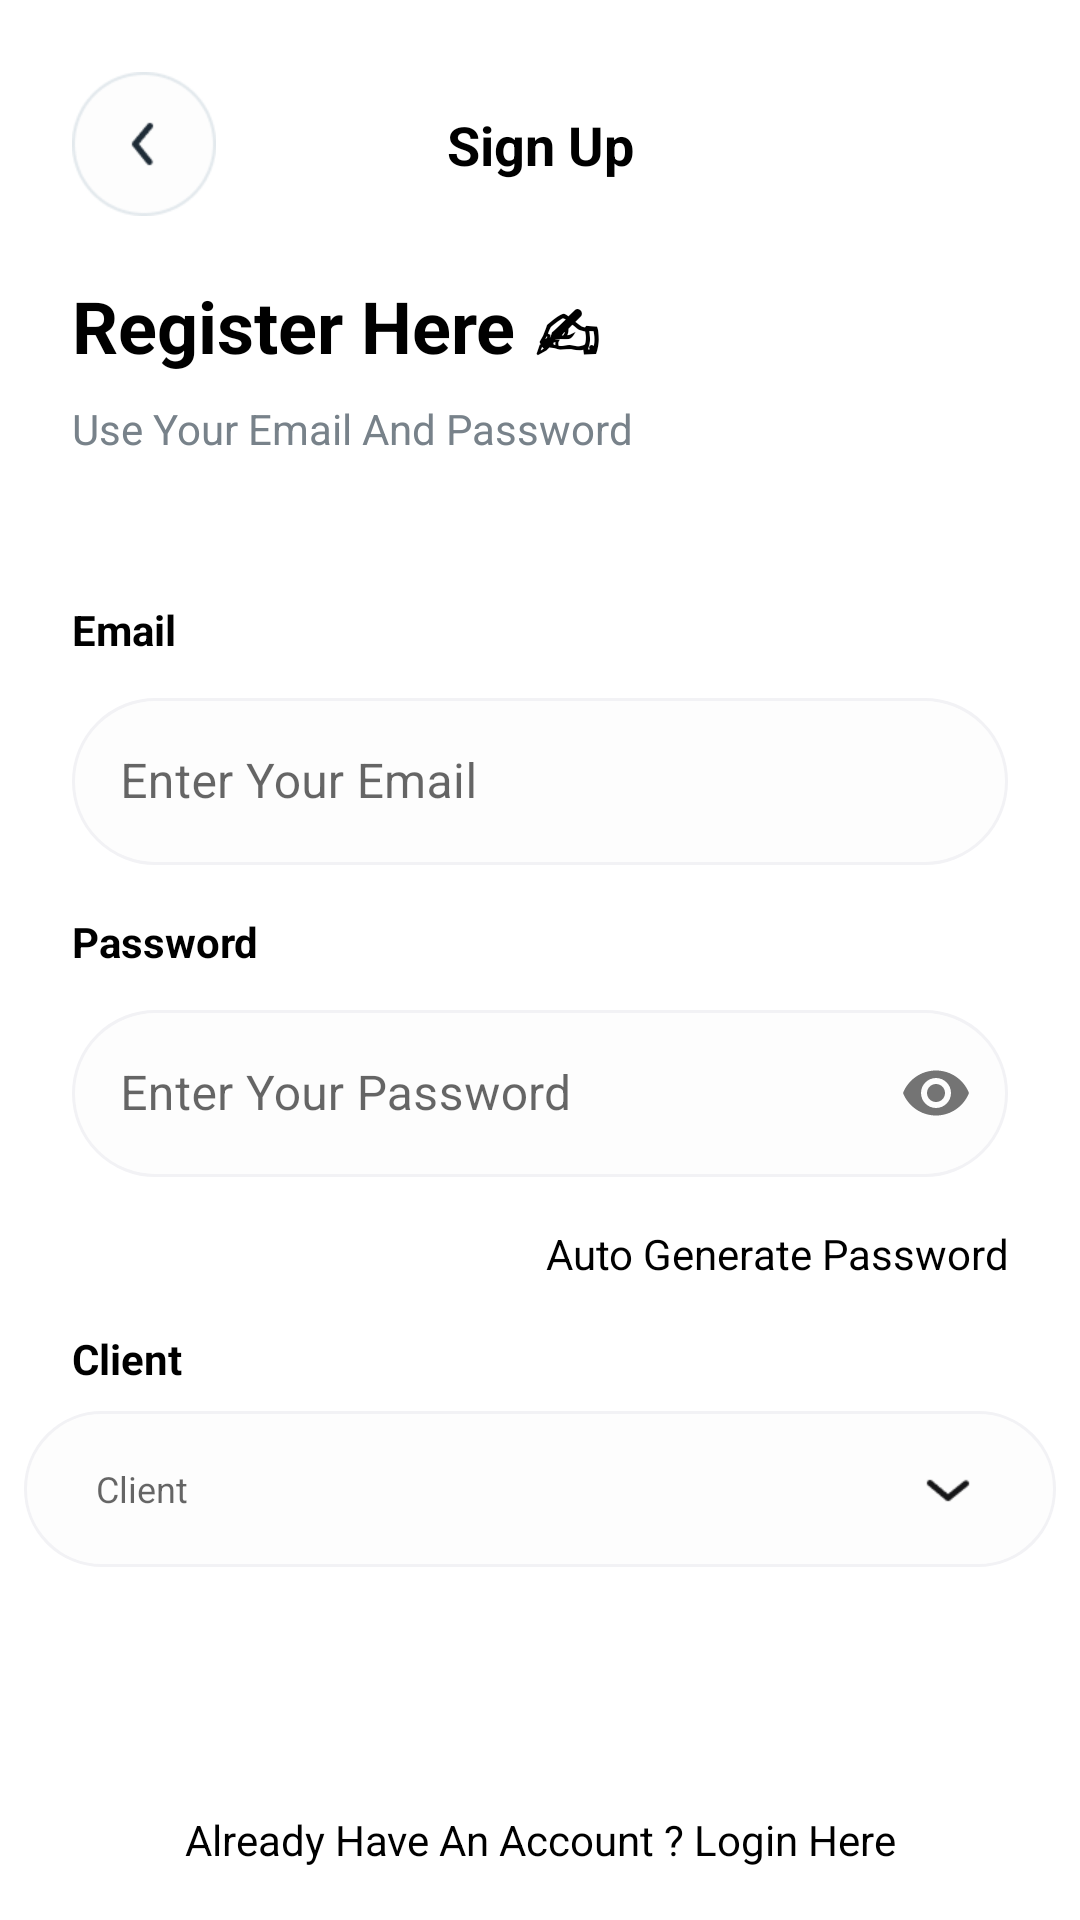

Screen size 1080*1920. Icon name, then its center in pixels as point (x, y):
arrow back: point (144, 144)
dropdown: point (948, 1490)
